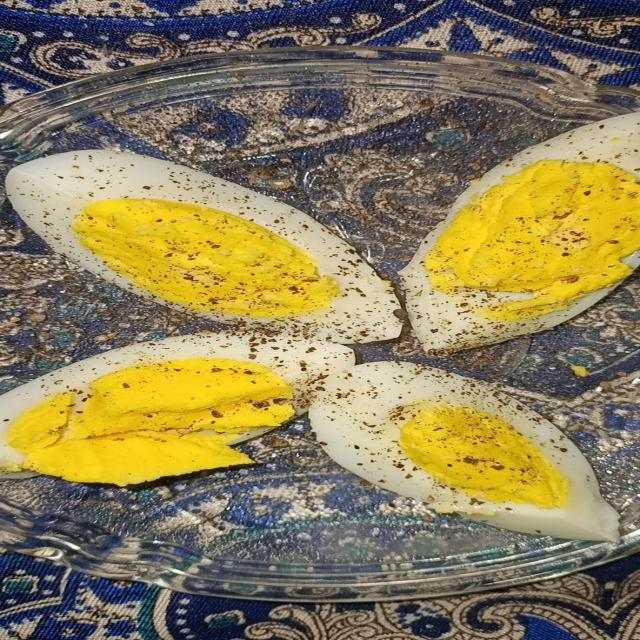eggs: (49, 114, 640, 523)
